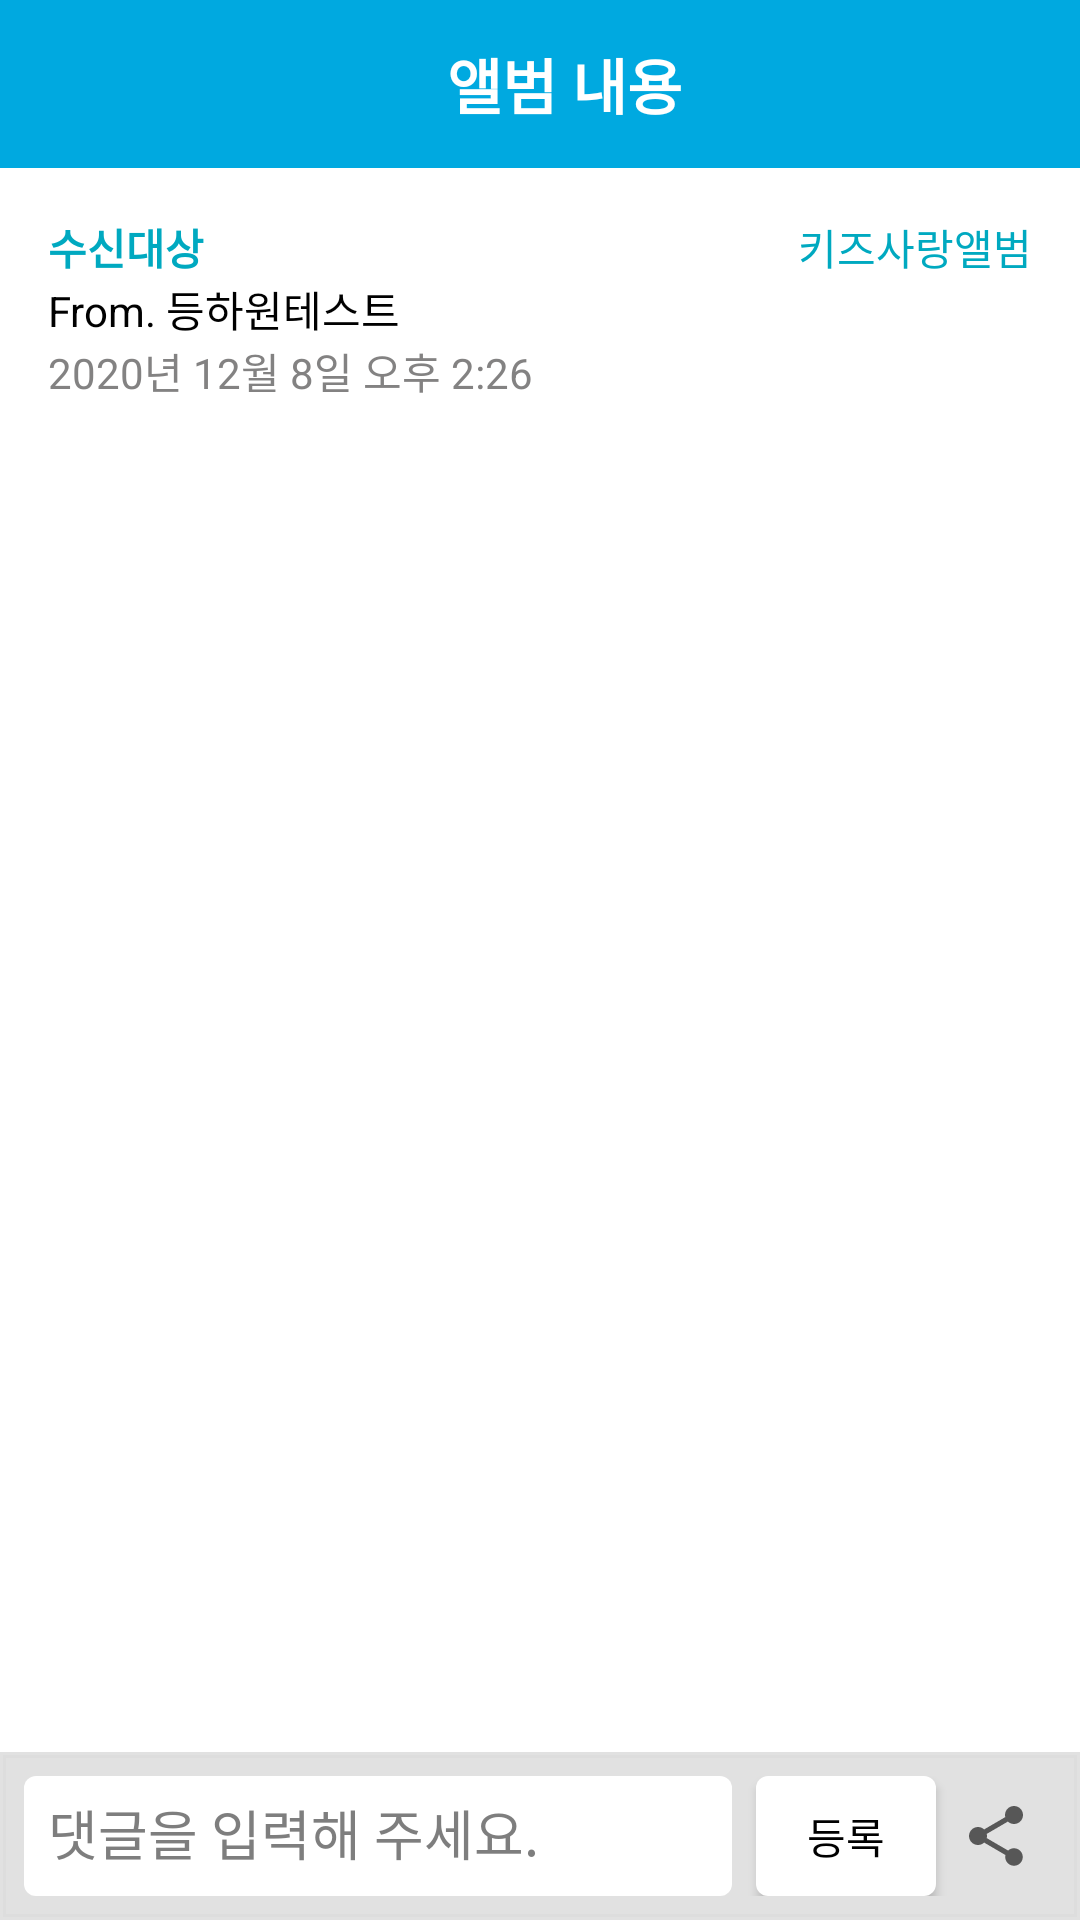

Point at icon controls on the screen. Image size 1080px x 1920px, points as (x=x, y=y).
share: (x=996, y=1836)
